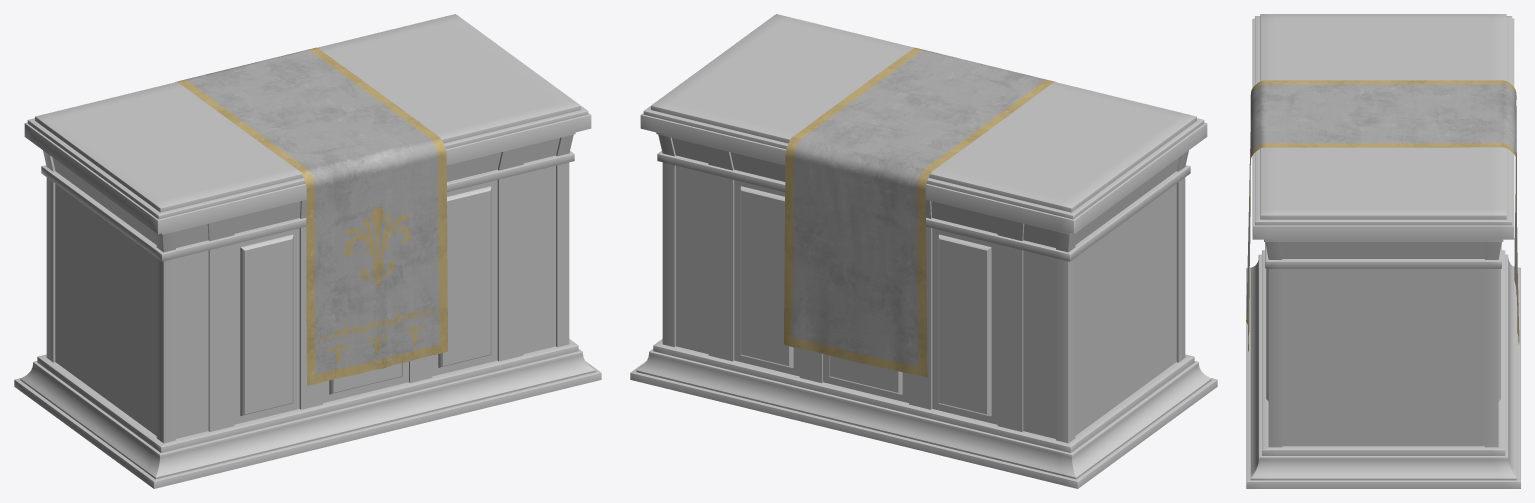
The picture shows the model from 3 angles, left to right: view 1: azimuth 30°, elevation 25°; view 2: azimuth 150°, elevation 25°; view 3: azimuth 270°, elevation 25°; orthographic projection.
Parts seen in each view (by area): view 1: simply_coll, simply_cloth; view 2: simply_coll, simply_cloth; view 3: simply_coll, simply_cloth.
Boxes of the visible parts, x1=… form: simply_coll: x1=14, y1=14, x2=601, y2=488; simply_cloth: x1=175, y1=47, x2=447, y2=385; simply_coll: x1=630, y1=14, x2=1217, y2=488; simply_cloth: x1=784, y1=47, x2=1055, y2=377; simply_coll: x1=1246, y1=14, x2=1520, y2=488; simply_cloth: x1=1246, y1=80, x2=1519, y2=351.
Size of the model in its own units: 441 by 258 by 239.
